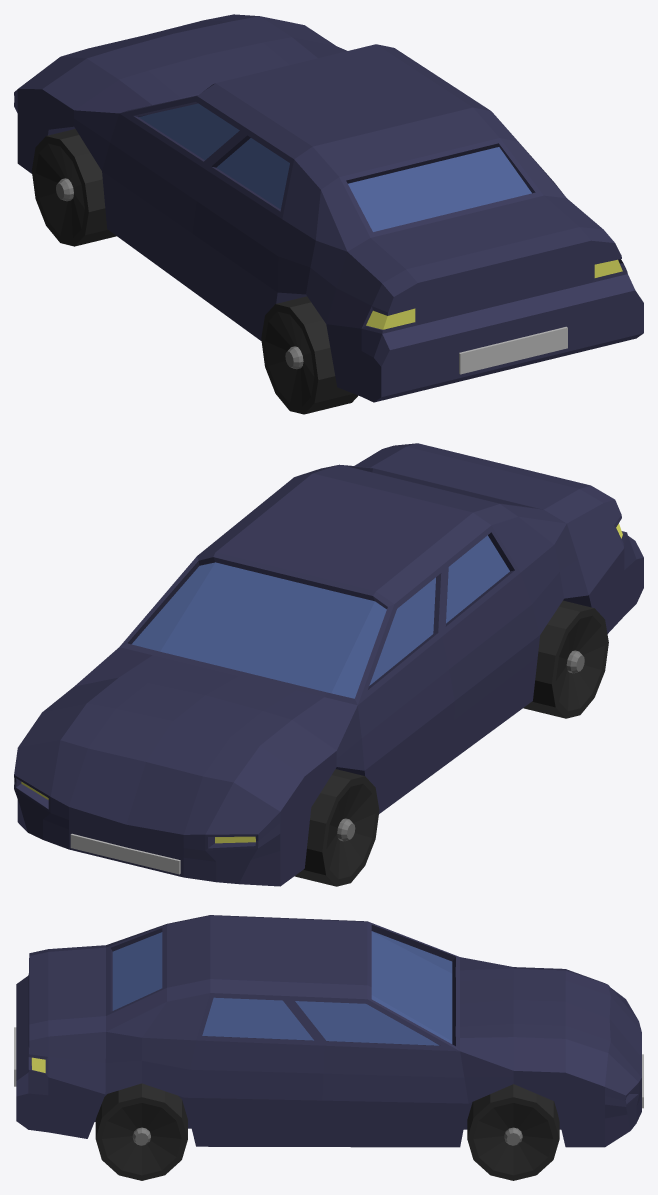
Rendered from CarBlue.fbx.
3 views of the same model, one above another, from view 1: azimuth 30°, elevation 25°; view 2: azimuth 150°, elevation 25°; view 3: azimuth 270°, elevation 25° (orthographic). The views are drawn at different scales.
Visible parts, largest first — view 1: Car1.004; view 2: Car1.004; view 3: Car1.004.
Part boxes in pixels (left/top/right/bottom): Car1.004: left=14, top=14, right=643, bottom=414; Car1.004: left=14, top=443, right=643, bottom=886; Car1.004: left=14, top=915, right=643, bottom=1180.
Size of the model in its own units: 125 by 89.14 by 289.
